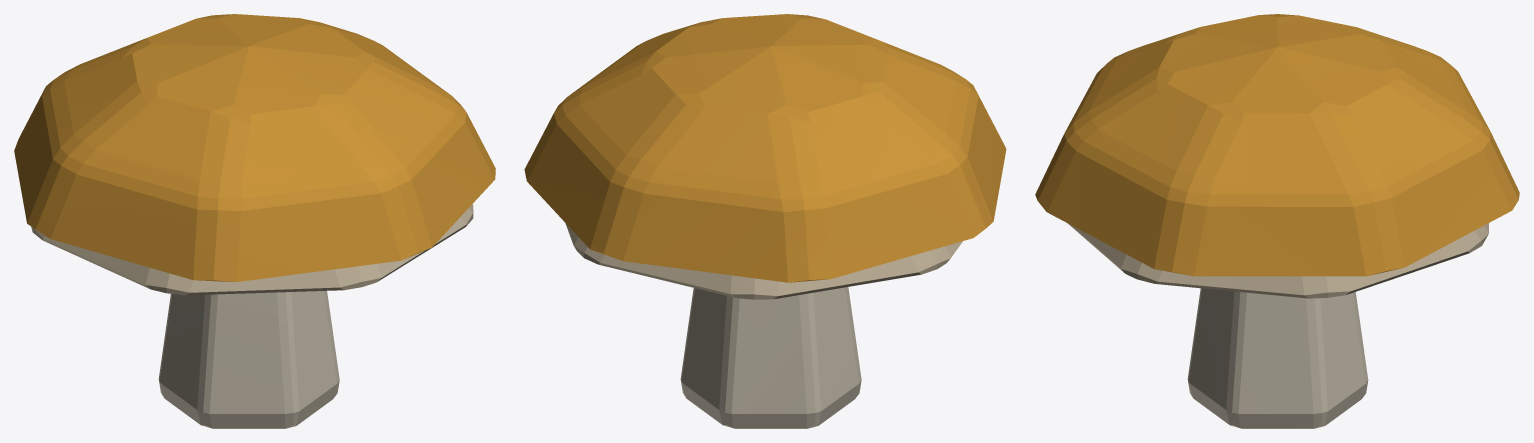
Rendered from prop_toadstoolYellow.glb.
The picture shows the model from 3 angles, left to right: view 1: azimuth 30°, elevation 25°; view 2: azimuth 150°, elevation 25°; view 3: azimuth 270°, elevation 25°; orthographic projection.
Parts seen in each view (by area): view 1: prop_toadstoolYellow_part_0; view 2: prop_toadstoolYellow_part_0; view 3: prop_toadstoolYellow_part_0.
Part boxes in pixels (bbox=[...]): prop_toadstoolYellow_part_0: bbox=[14, 14, 495, 428]; prop_toadstoolYellow_part_0: bbox=[524, 14, 1006, 428]; prop_toadstoolYellow_part_0: bbox=[1035, 14, 1519, 428].
Size of the model in its own units: 0.6179 by 0.51 by 0.6296.
